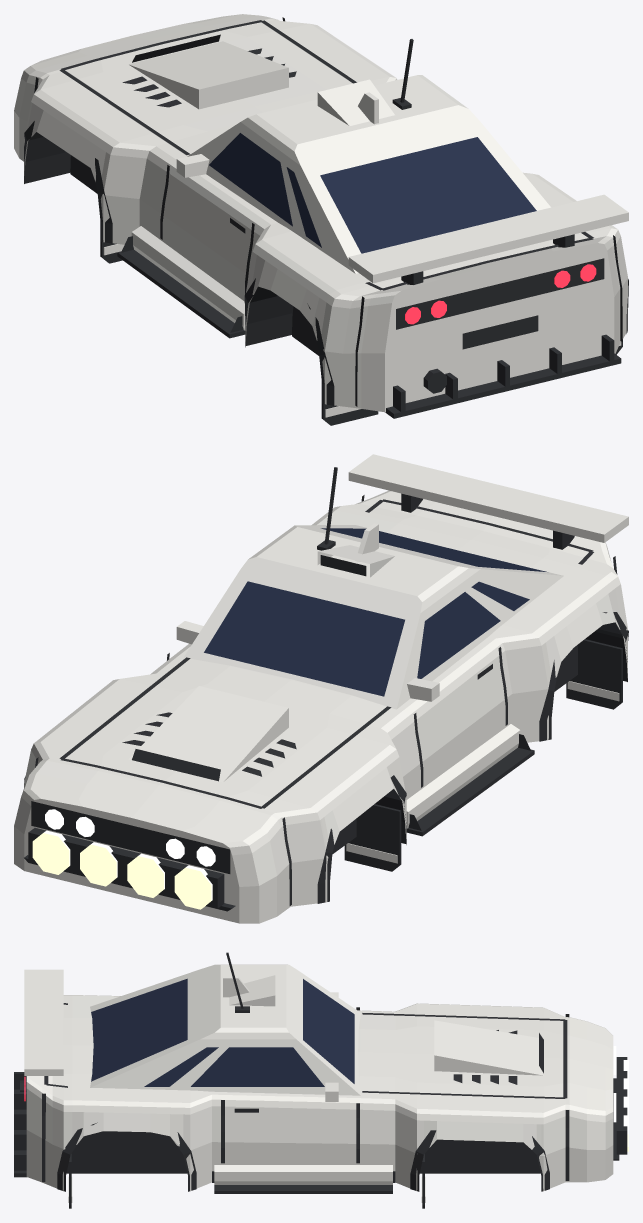
The model's file is Ryu.glb.
3 views of the same model, one above another, from view 1: azimuth 30°, elevation 25°; view 2: azimuth 150°, elevation 25°; view 3: azimuth 270°, elevation 25° (orthographic). The views are drawn at different scales.
Visible parts, largest first — view 1: BumperRear, Hood, RearWindow, Pillars, Roof, Fender_FL, Opt_Wing_Rally_WingBlade, Fender_RL, Door_FL, Opt_Hood_Scoop_HoodScoop, BumperFront, Opt_Diffuser_Race_AccDiffuserRace (+21 smaller); view 2: Hood, BumperFront, Windshield, Pillars, Roof, Fender_FL, Opt_Wing_Rally_WingBlade, Fender_RL, Opt_Hood_Scoop_HoodScoop, Door_FL, Cowl, Trunk (+22 smaller); view 3: Hood, Fender_FR, Door_FR, Pillars, Fender_RR, WheelWell, BumperFront, RearWindow, Roof, Opt_Hood_Scoop_HoodScoop, Cowl, Opt_Wing_Rally_WingBlade (+15 smaller).
Boxes of the visible parts, left/top/right/bottom form: BumperRear: left=361, top=239, right=618, bottom=412; Hood: left=40, top=18, right=389, bottom=159; RearWindow: left=320, top=137, right=536, bottom=253; Pillars: left=187, top=122, right=550, bottom=273; Roof: left=241, top=75, right=480, bottom=165; Fender_FL: left=24, top=73, right=176, bottom=244; Opt_Wing_Rally_WingBlade: left=348, top=194, right=628, bottom=283; Fender_RL: left=245, top=221, right=376, bottom=408; Door_FL: left=161, top=162, right=265, bottom=301; Opt_Hood_Scoop_HoodScoop: left=128, top=41, right=288, bottom=109; BumperFront: left=14, top=14, right=275, bottom=161; Opt_Diffuser_Race_AccDiffuserRace: left=385, top=334, right=621, bottom=418; Hood: left=40, top=656, right=401, bottom=815; BumperFront: left=14, top=760, right=287, bottom=923; Windshield: left=204, top=581, right=404, bottom=696; Pillars: left=183, top=525, right=563, bottom=709; Roof: left=241, top=525, right=480, bottom=612; Fender_FL: left=271, top=711, right=419, bottom=908; Opt_Wing_Rally_WingBlade: left=348, top=454, right=628, bottom=542; Fender_RL: left=490, top=552, right=627, bottom=742; Opt_Hood_Scoop_HoodScoop: left=128, top=686, right=288, bottom=782; Door_FL: left=403, top=643, right=506, bottom=790; Cowl: left=178, top=510, right=605, bottom=710; Trunk: left=336, top=497, right=611, bottom=575; Hood: left=360, top=1003, right=569, bottom=1112; Fender_FR: left=360, top=1098, right=569, bottom=1191; Door_FR: left=220, top=1095, right=360, bottom=1164; Pillars: left=90, top=969, right=360, bottom=1095; Fender_RR: left=42, top=1088, right=220, bottom=1190; WheelWell: left=66, top=1131, right=540, bottom=1173; BumperFront: left=569, top=1017, right=613, bottom=1182; RearWindow: left=91, top=978, right=187, bottom=1081; Roof: left=200, top=964, right=296, bottom=1039; Opt_Hood_Scoop_HoodScoop: left=434, top=1020, right=543, bottom=1075; Cowl: left=72, top=995, right=360, bottom=1102; Opt_Wing_Rally_WingBlade: left=24, top=969, right=63, bottom=1075.
Bounding box in the file's own units: 6.46 × 5.44 × 14.1.
